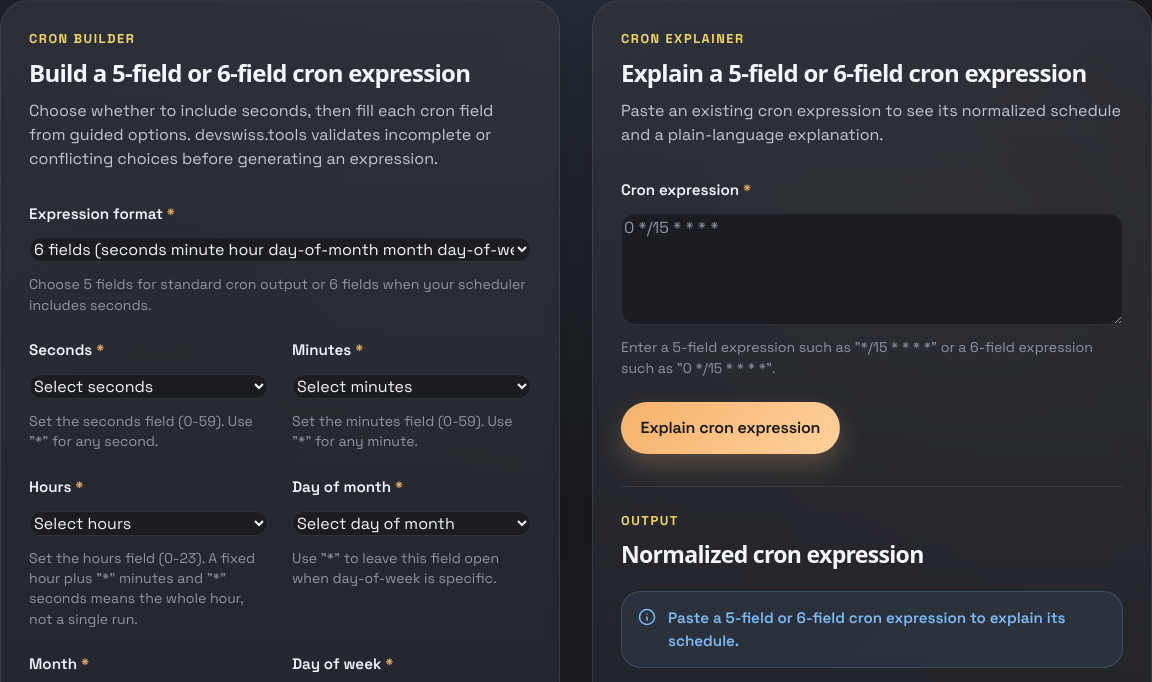
Scenario: Cron tool flow › shows validation feedback when the explainer input is empty
Click the button "Explain cron expression" at (730, 428), box 621,402 -> 840,454
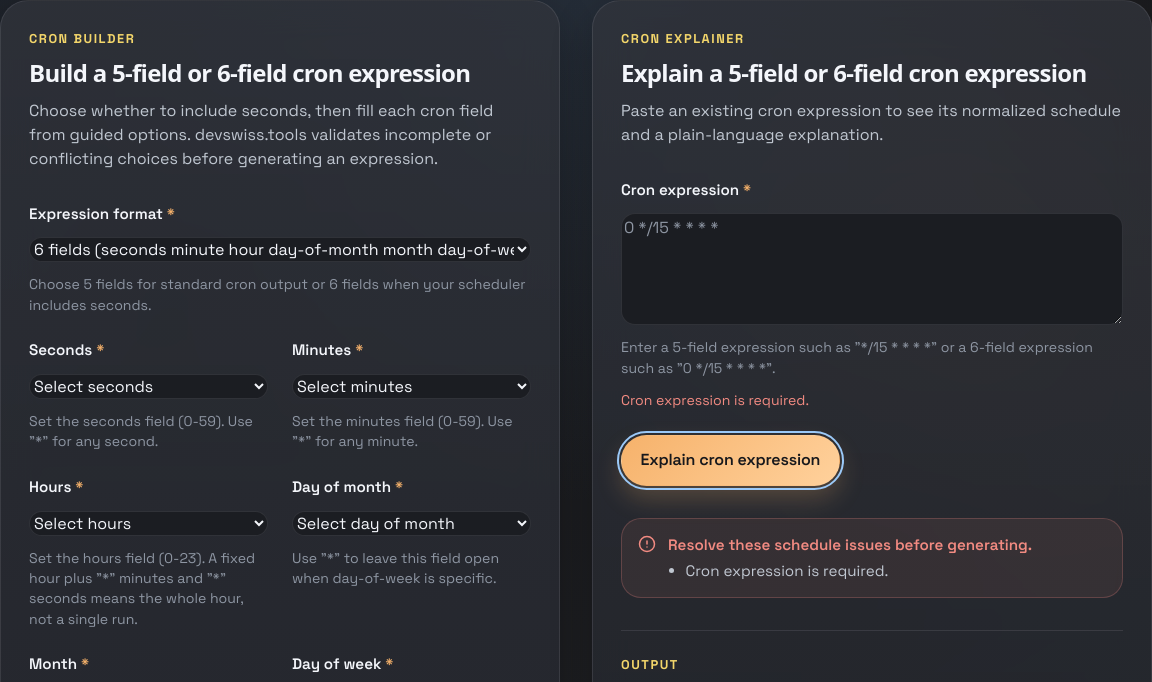
Check: the text "Cron expression is required." is shown, box 621,391 -> 809,409
